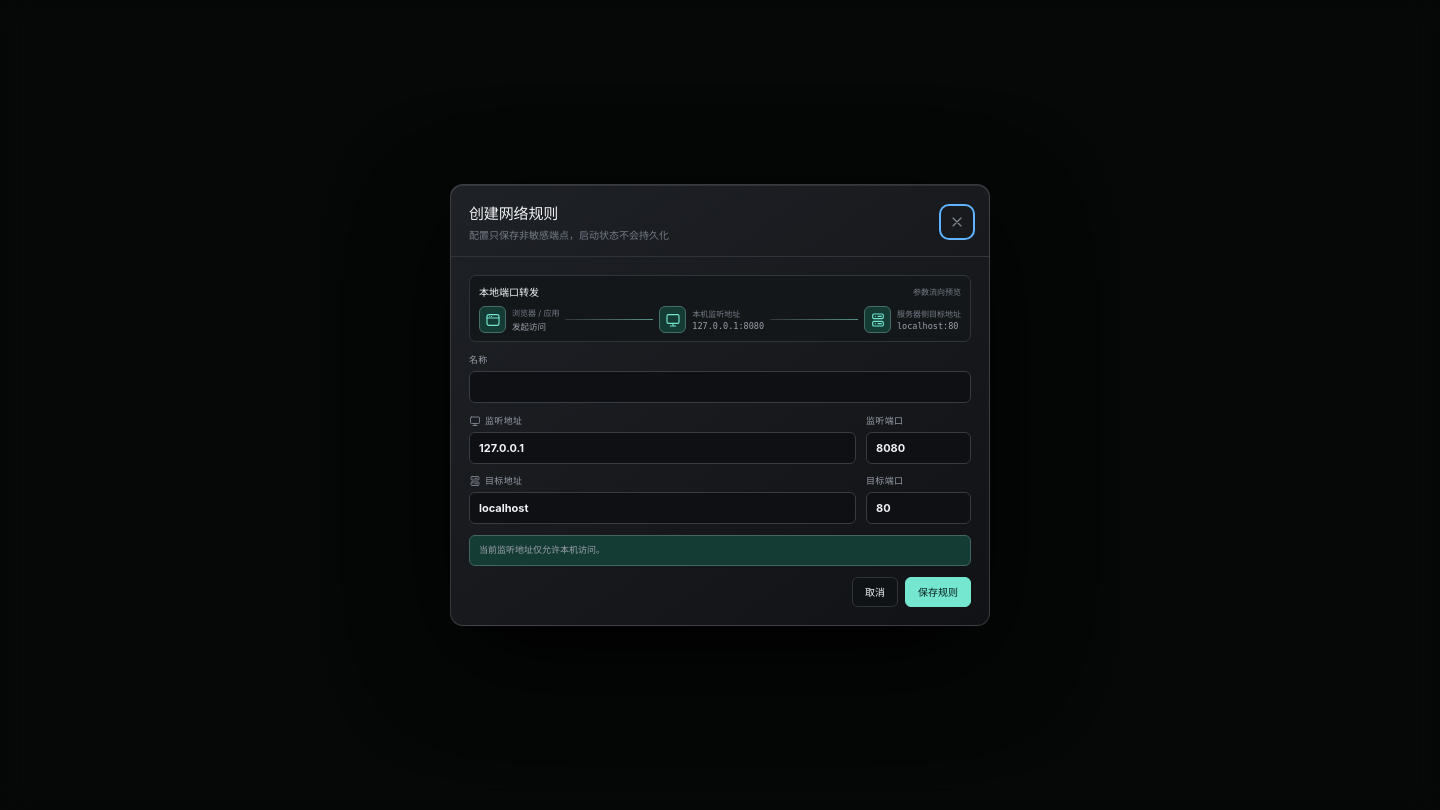
Test case: NetworkRuleDialog › shows local forwarding as a live flow from the local listener to the server-side target
Expected: the picture named "浏览器 / 应用连接本机监听地址 127.0.0.1:8080，流量转发到服务器侧目标地址 localhost:80" is shown, [479, 306, 961, 333]
Expected: the number of elements with class "network-rule-flow-connector" is 2, [565, 306, 653, 333]; [770, 306, 858, 333]
Replace the text in the field labelled "目标地址" with "intranet.example" at (662, 508), box [469, 492, 856, 524]
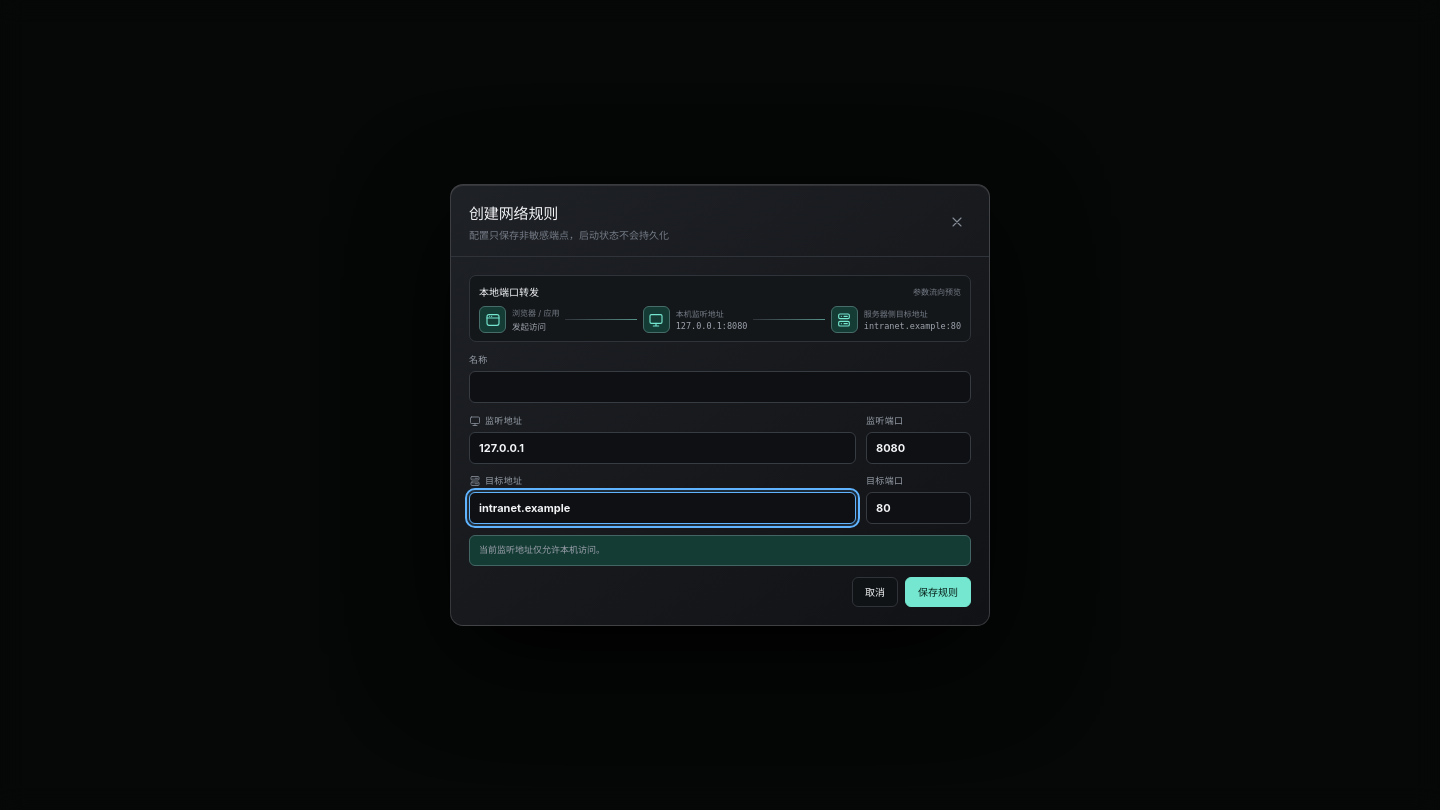
Replace the text in the number field labelled "目标端口" with "443" at (918, 508), box [866, 492, 971, 524]
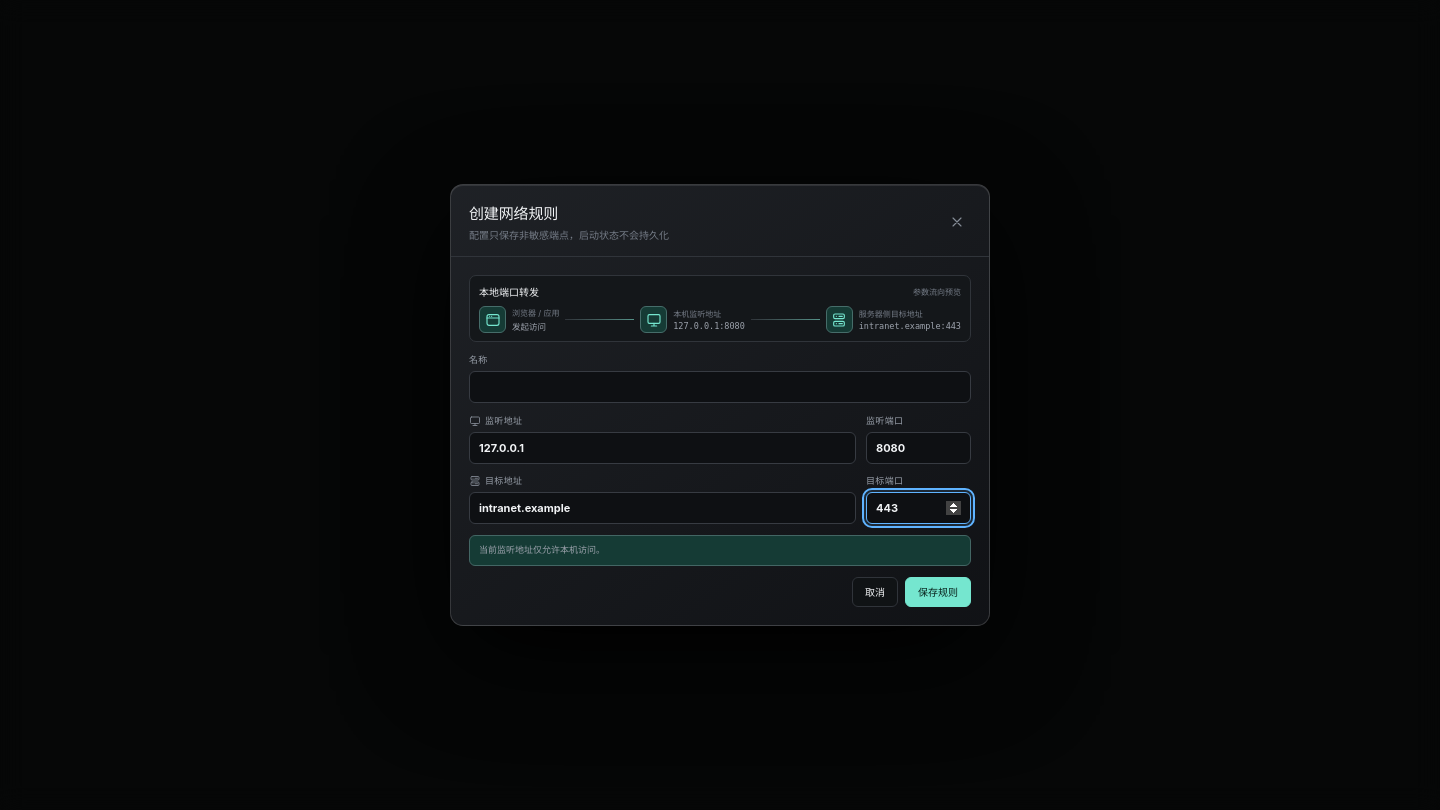
Expected: the picture "服务器侧目标地址 intranet.example:443" is shown, [479, 306, 961, 333]
